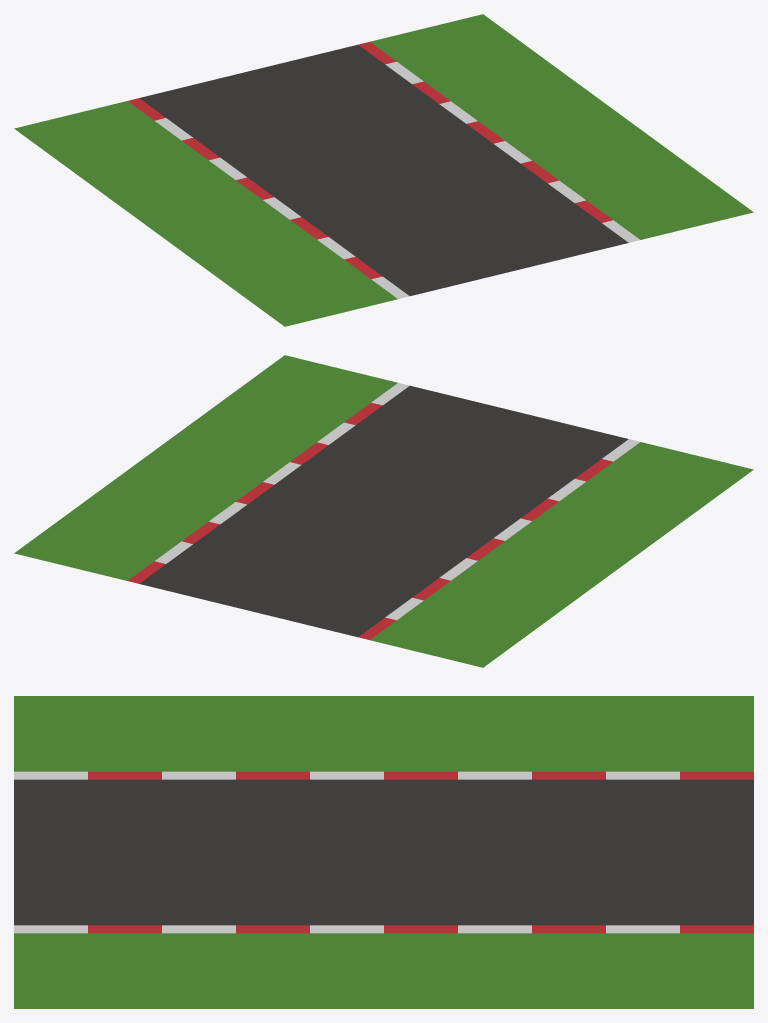
The model's file is tiles-nb_tile-race-track-straight-nb.fbx.
3 renders of one model, top to bottom at view 1: azimuth 30°, elevation 25°; view 2: azimuth 150°, elevation 25°; view 3: azimuth 270°, elevation 25°, orthographic. The views are drawn at different scales.
Parts seen in each view (by area): view 1: tiles_nb_tile_race_track_straight_nb; view 2: tiles_nb_tile_race_track_straight_nb; view 3: tiles_nb_tile_race_track_straight_nb.
Boxes of the visible parts, <box> form: tiles_nb_tile_race_track_straight_nb: <box>14,14,753,326</box>; tiles_nb_tile_race_track_straight_nb: <box>14,355,753,667</box>; tiles_nb_tile_race_track_straight_nb: <box>14,696,753,1008</box>.
Size of the model in its own units: 200 by 0 by 200.
